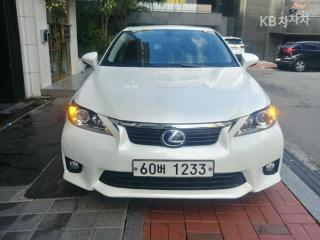0: (149, 162, 157, 175)
1: (174, 163, 180, 175)
2: (181, 163, 190, 176)
3: (198, 162, 208, 177), (190, 162, 197, 176)
6: (139, 162, 149, 175)
버: (157, 163, 167, 175)
